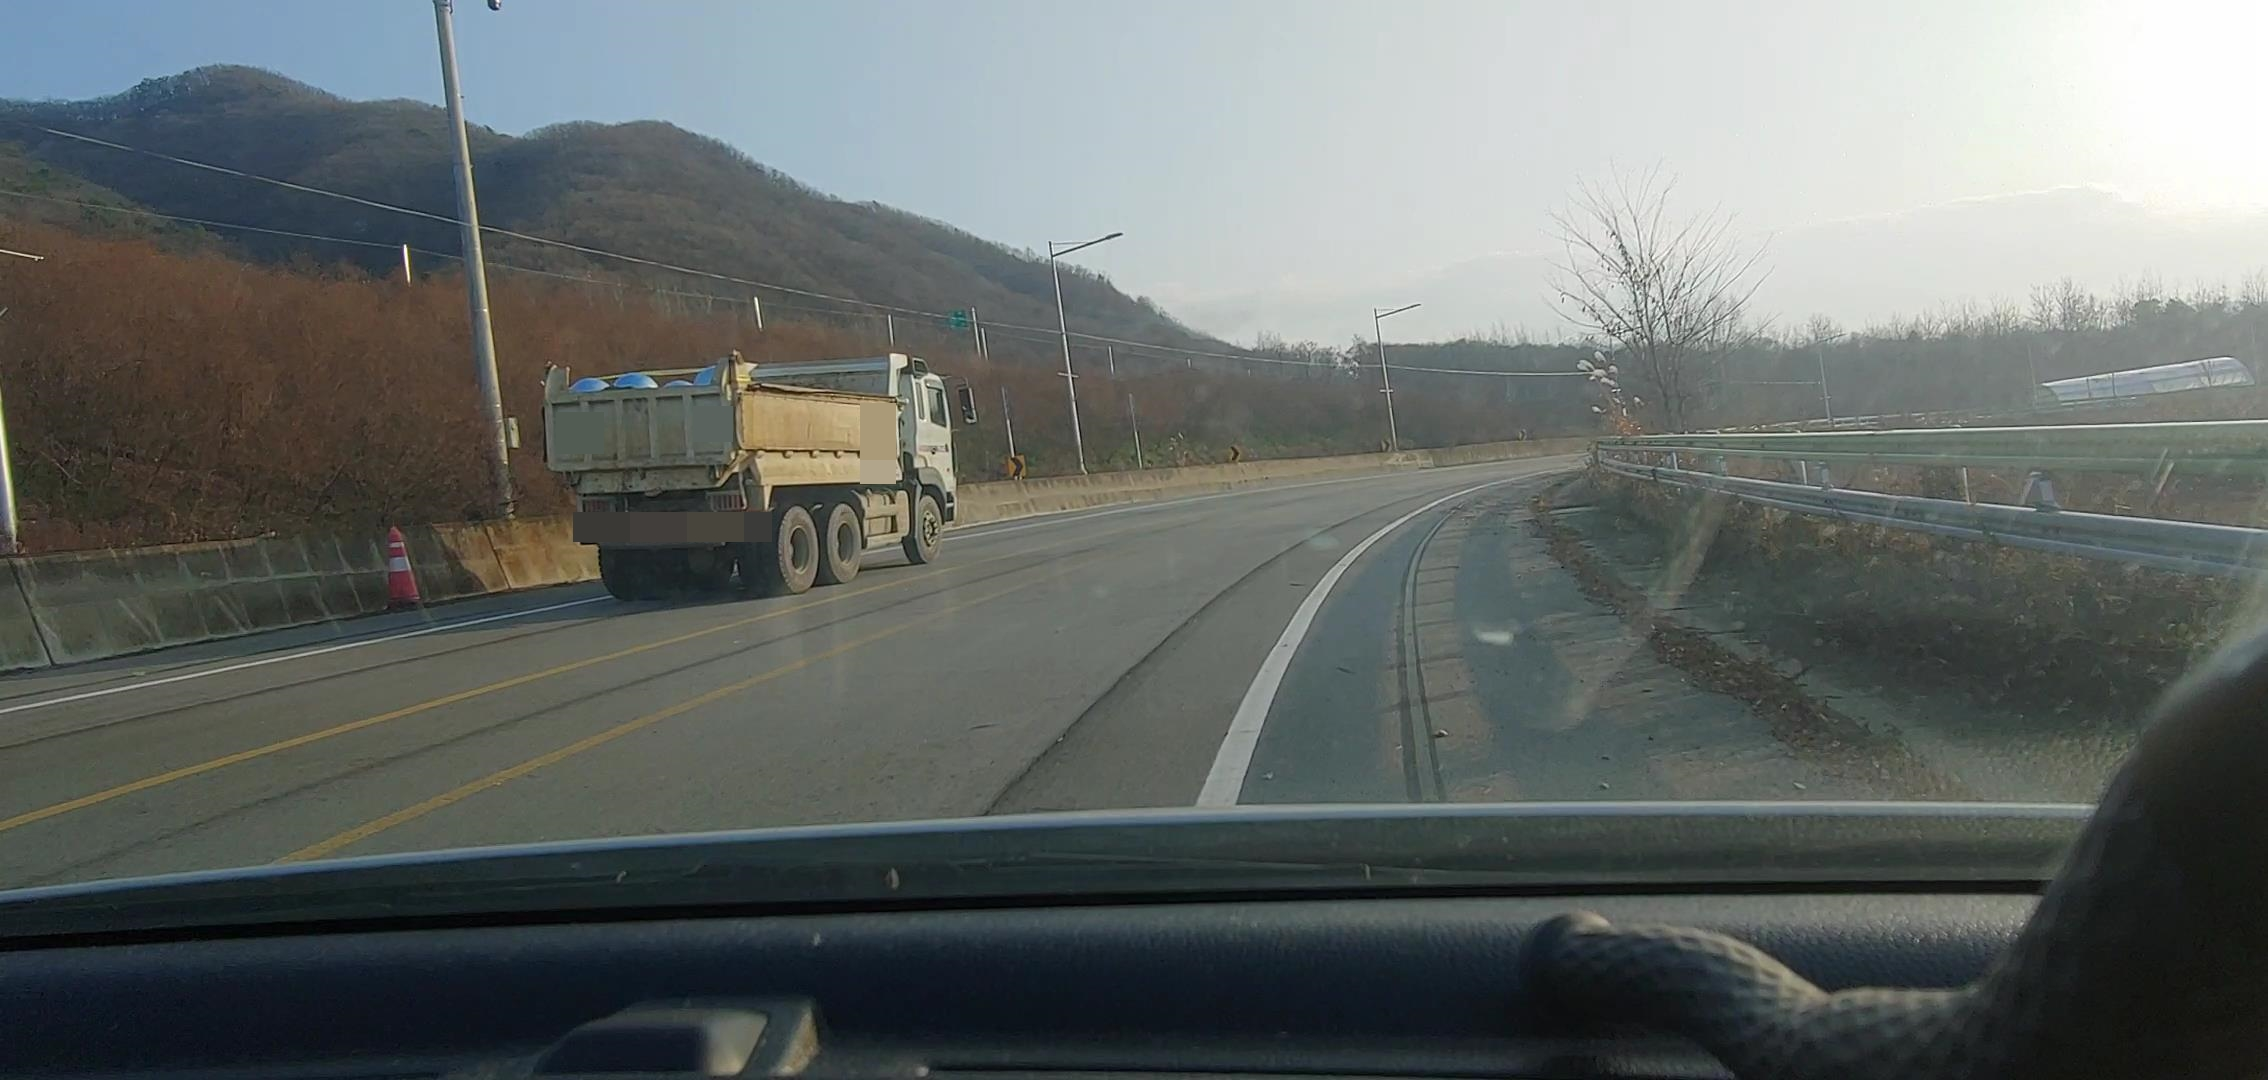불법차량: (542, 353, 978, 603)
